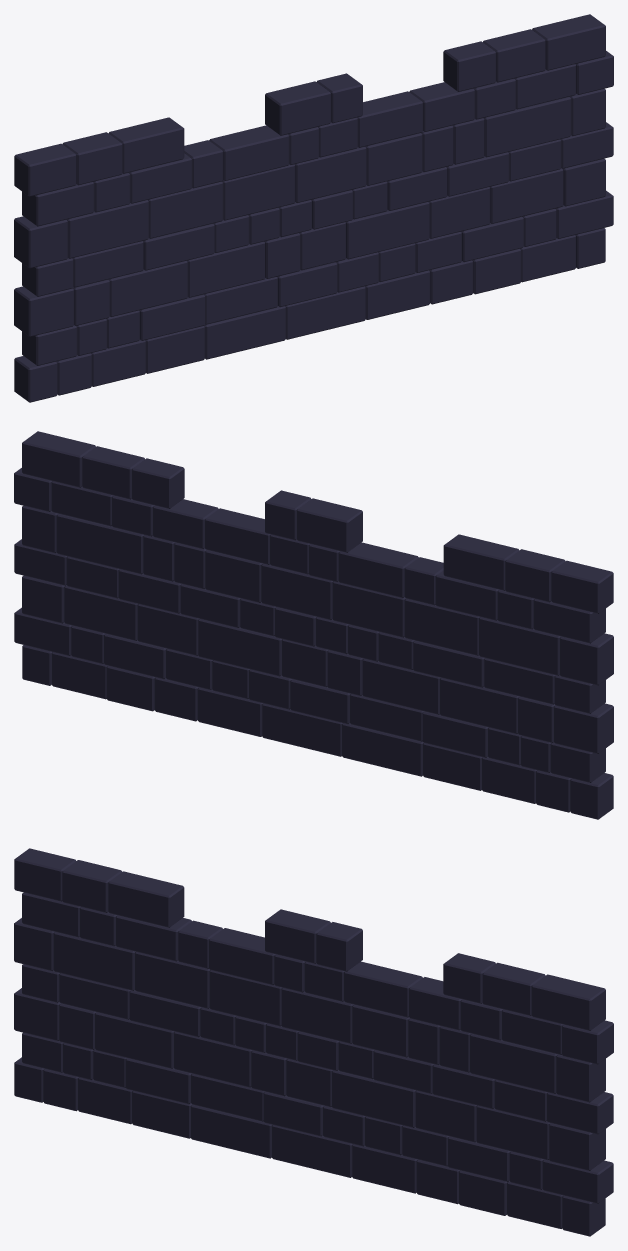
File: fence.fbx
3 views of the same model, one above another, from view 1: azimuth 30°, elevation 25°; view 2: azimuth 150°, elevation 25°; view 3: azimuth 330°, elevation 25° (orthographic).
Visible parts, largest first — view 1: Wall.010; view 2: Wall.010; view 3: Wall.010.
Boxes of the visible parts, x1,y1,x2,y2 form: Wall.010: (14, 14, 613, 402); Wall.010: (14, 431, 613, 819); Wall.010: (14, 848, 613, 1236).
Bounding box in the file's own units: 4478 × 1739 × 219.
